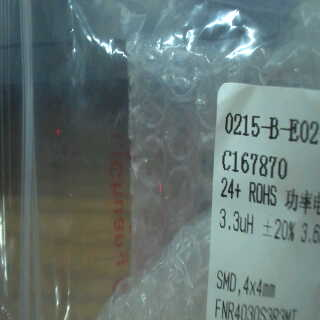3.3uH: (209, 204, 256, 238)
